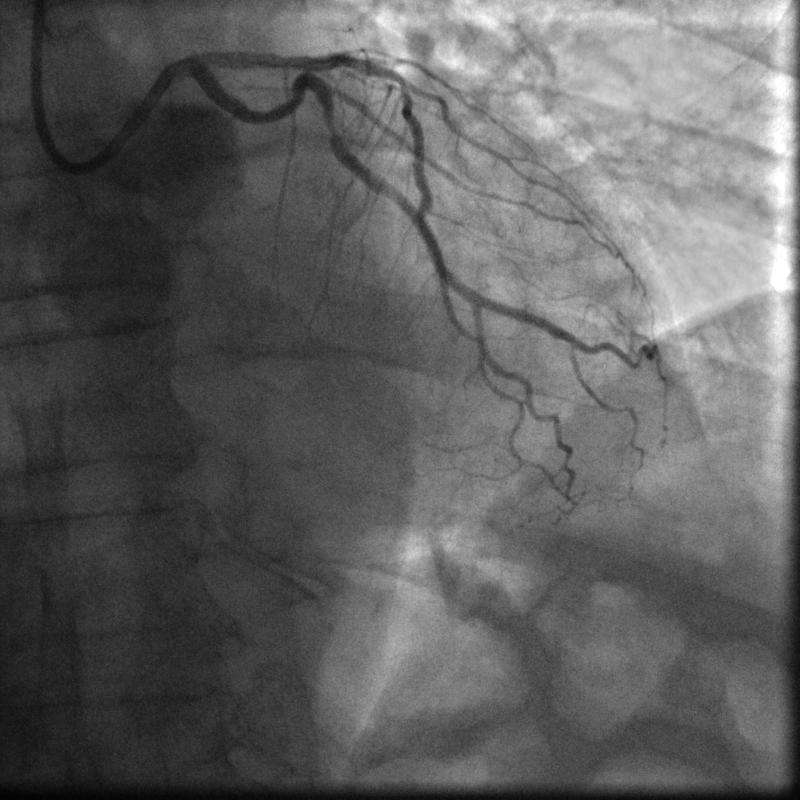Stenosis: (323, 113, 337, 137)
